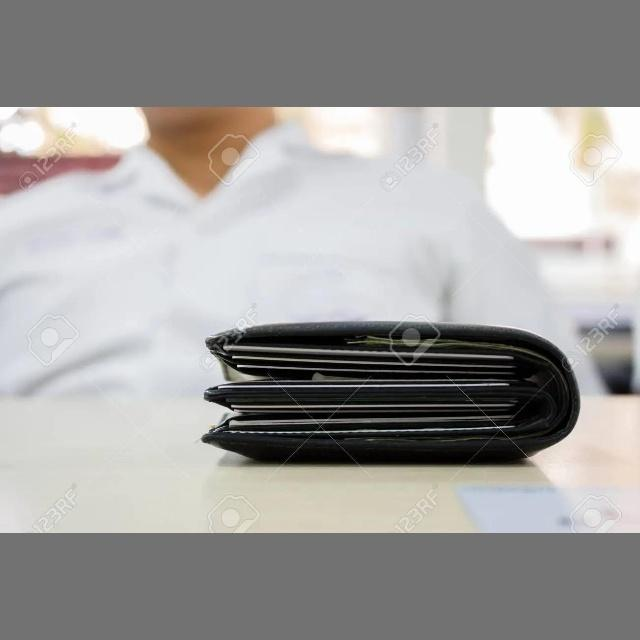Wallet: (204, 314, 596, 474)
